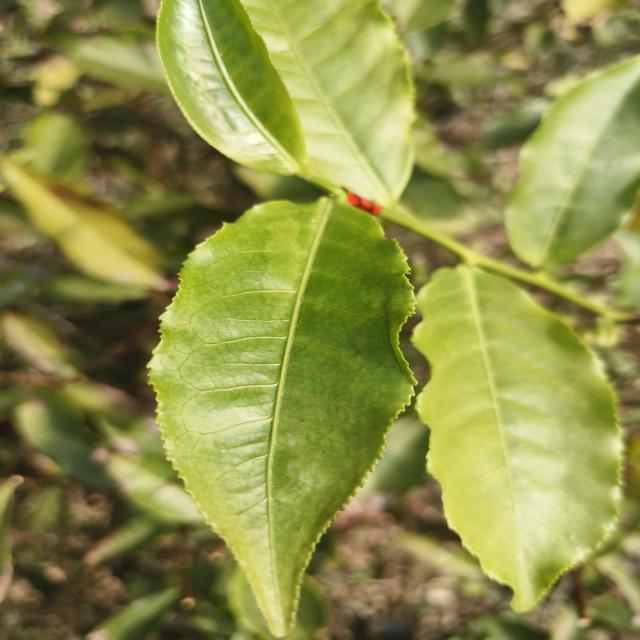Leaf: (149, 198, 414, 636), (413, 265, 622, 611), (241, 0, 414, 205), (506, 56, 640, 268), (158, 0, 306, 173), (3, 161, 168, 290), (12, 388, 115, 489), (106, 452, 204, 524), (61, 36, 170, 93)
